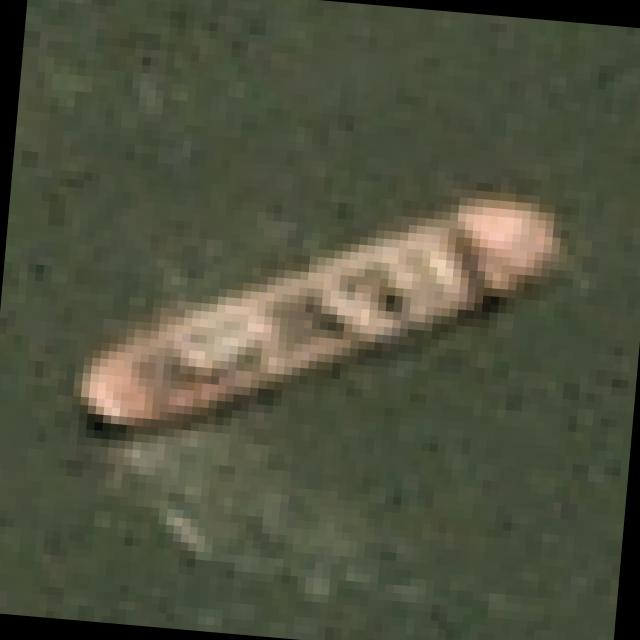ship: (56, 99, 598, 496)
